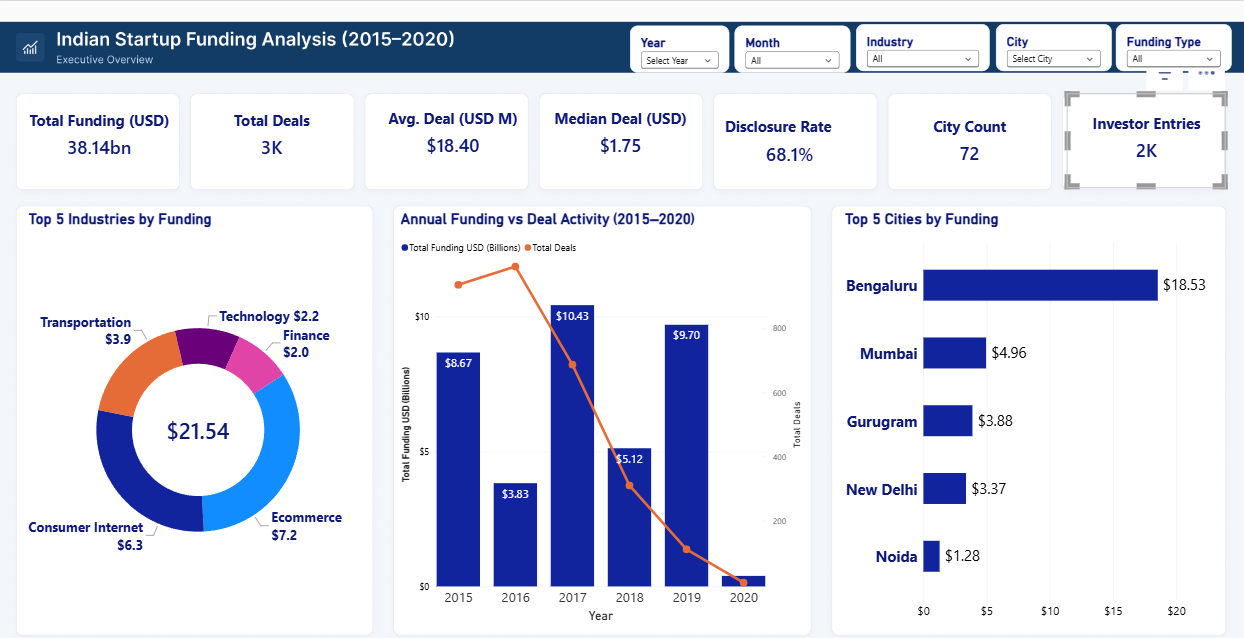

What the dashboard file says about the page in this screenshot:
{"tool":"powerbi","page":{"name":"Page 1","canvas":[1920,1080],"ordinal":0},"visuals":[{"type":"cardVisual","title":"Total Funding USD","fields":{"Data":["Sum(cleaned_dataset.Amount_USD)"]},"box":[18.9,136.7,282.8,150.8],"z":0},{"type":"cardVisual","fields":{"Data":["Calendar.Median Deal Size USD"]},"box":[824.7,134.3,268.6,153.2],"z":1000},{"type":"cardVisual","fields":{"Data":["Calendar.Funding Disclosure Rate"]},"box":[1088.6,146.1,259.2,141.4],"z":2000},{"type":"cardVisual","fields":{"Data":["Calendar.City Count"]},"box":[1372.5,145,245,142.5],"z":3000},{"type":"cardVisual","fields":{"Data":["Count(cleaned_dataset.Investors_Name)"]},"box":[1642.4,141.4,245.1,146.1],"z":4000},{"type":"cardVisual","fields":{"Data":["Calendar.Average Deal Size (USD Millions)"]},"box":[567.9,134.3,268.6,153.2],"z":5000},{"type":"cardVisual","fields":{"Data":["Calendar.Total Deals"]},"box":[302.5,137.5,245,152.5],"z":6000},{"type":"donutChart","title":"Top 5 Industries by Funding","fields":{"Category":["cleaned_dataset.Industry"],"Y":["Calendar.Total Funding USD"]},"box":[35.3,306.3,551.4,662.1],"z":7000},{"type":"barChart","title":"Top 5 Cities by Funding","fields":{"Category":["cleaned_dataset.City"],"Y":["Calendar.Total Funding USD (Billions)"]},"box":[1287.5,307.5,600,662.5],"z":8000},{"type":"lineStackedColumnComboChart","title":"Annual Funding vs Deal Activity (2015–2020)","fields":{"Category":["cleaned_dataset.Date.Variation.Date Hierarchy.Year"],"Y":["Calendar.Total Funding USD"],"Y2":["Calendar.Total Deals"]},"box":[605.6,306.3,645.6,662.1],"z":9000},{"type":"listSlicer","fields":{"Values":["Calendar.Month"]},"box":[1132.5,37.5,177.5,72.5],"z":10000},{"type":"listSlicer","title":"Industry","fields":{"Values":["cleaned_dataset.Industry"]},"box":[1320,35,205,72.5],"z":11000},{"type":"listSlicer","title":"Funding Type","fields":{"Values":["cleaned_dataset.Investment_Type_Clean"]},"box":[1717.5,35,177.5,72.5],"z":12000},{"type":"listSlicer","fields":{"Values":["Calendar.Year"]},"box":[972.5,37.5,152.5,72.5],"z":13000},{"type":"listSlicer","title":"City","fields":{"Values":["cleaned_dataset.City"]},"box":[1535,35,177.5,72.5],"z":14000}]}

Visuals, with their boxes on the page's 1920x1080 design canvas (x1, y1, x2, y2). These are canvas units, not pixel positions in the 1244x638 screenshot, which may show the page scaled, cropped or inside an application window:
"Total Funding USD" cardVisual: bbox=(19, 137, 302, 288)
cardVisual - Calendar.Median Deal Size USD: bbox=(825, 134, 1093, 288)
cardVisual - Calendar.Funding Disclosure Rate: bbox=(1089, 146, 1348, 288)
cardVisual - Calendar.City Count: bbox=(1372, 145, 1618, 288)
cardVisual - Count(cleaned_dataset.Investors_Name): bbox=(1642, 141, 1888, 288)
cardVisual - Calendar.Average Deal Size (USD Millions): bbox=(568, 134, 836, 288)
cardVisual - Calendar.Total Deals: bbox=(302, 138, 548, 290)
"Top 5 Industries by Funding" donutChart: bbox=(35, 306, 587, 968)
"Top 5 Cities by Funding" barChart: bbox=(1288, 308, 1888, 970)
"Annual Funding vs Deal Activity (2015–2020)" lineStackedColumnComboChart: bbox=(606, 306, 1251, 968)
listSlicer - Calendar.Month: bbox=(1132, 38, 1310, 110)
"Industry" listSlicer: bbox=(1320, 35, 1525, 108)
"Funding Type" listSlicer: bbox=(1718, 35, 1895, 108)
listSlicer - Calendar.Year: bbox=(972, 38, 1125, 110)
"City" listSlicer: bbox=(1535, 35, 1712, 108)
